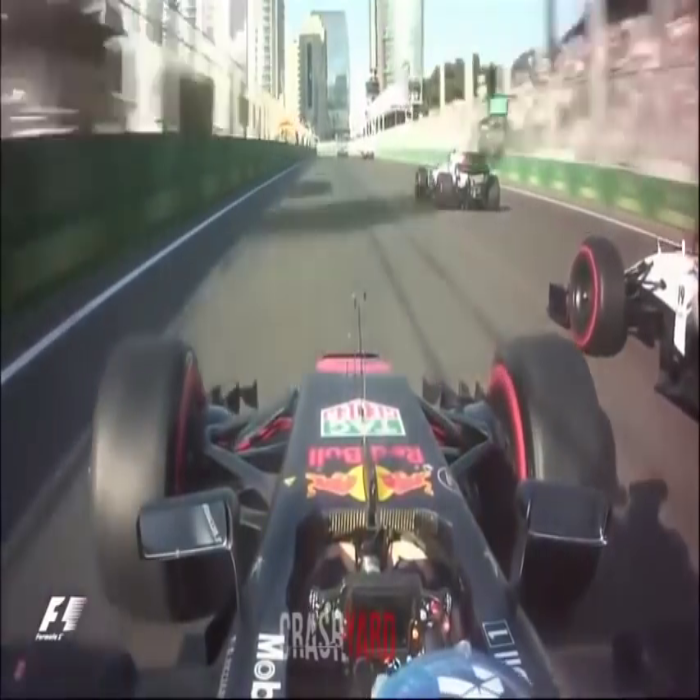f1_car: (76, 309, 636, 700), (405, 141, 512, 218)
